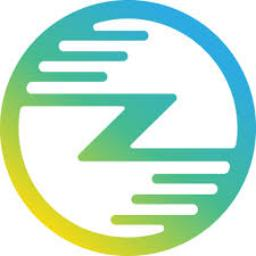z: (73, 88, 189, 168)
